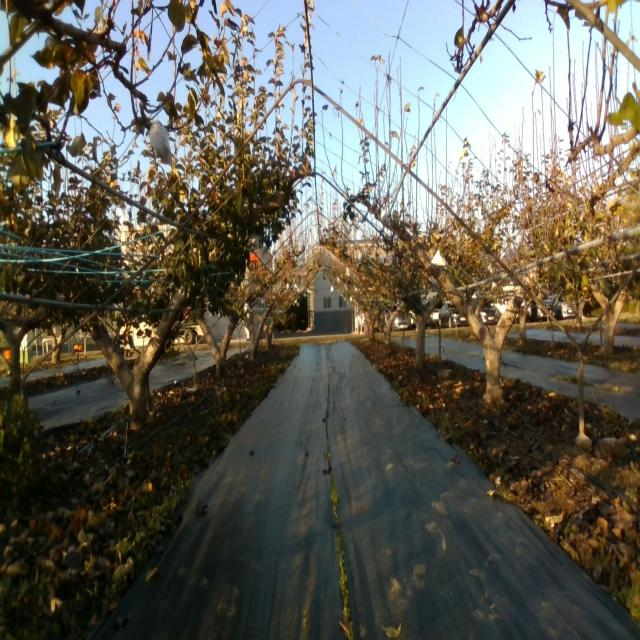pearbags: (149, 124, 173, 167), (430, 249, 446, 267), (247, 229, 260, 250), (380, 208, 391, 226)
